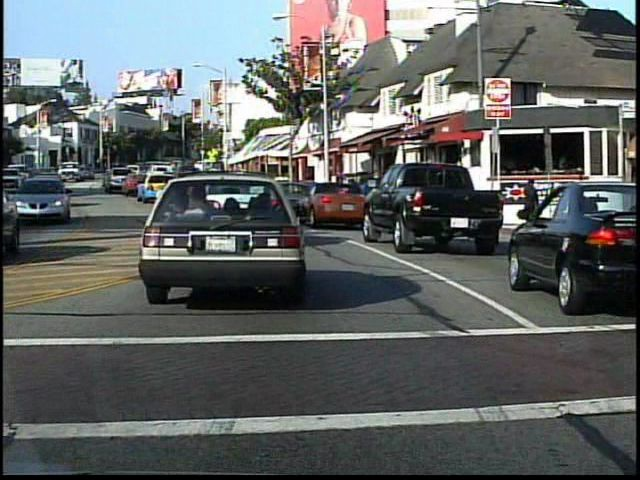person: (520, 172, 542, 233)
